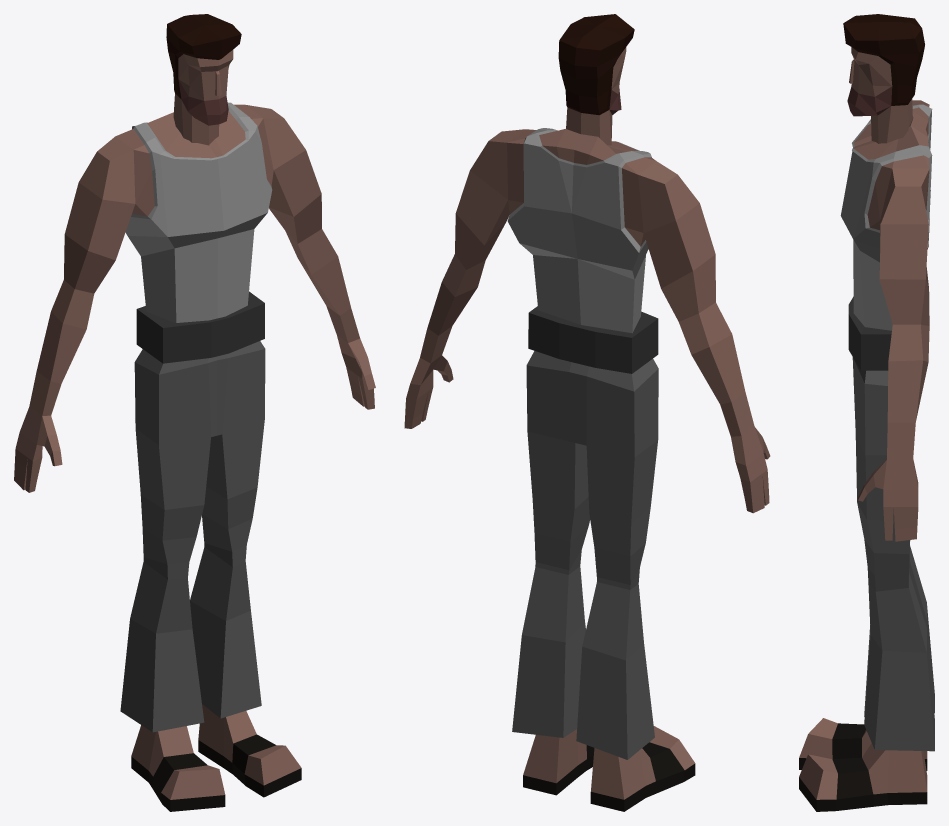
The model's file is hum1.FBX.
3 renders of one model, left to right at view 1: azimuth 30°, elevation 25°; view 2: azimuth 150°, elevation 25°; view 3: azimuth 270°, elevation 25°, orthographic.
Parts seen in each view (by area): view 1: MA Body 3; view 2: MA Body 3; view 3: MA Body 3.
Boxes of the visible parts, x1=… form: MA Body 3: x1=14, y1=14, x2=375, y2=811; MA Body 3: x1=404, y1=14, x2=770, y2=811; MA Body 3: x1=799, y1=14, x2=934, y2=811.
Bounding box in the file's own units: 34.55 × 71.24 × 11.58.
